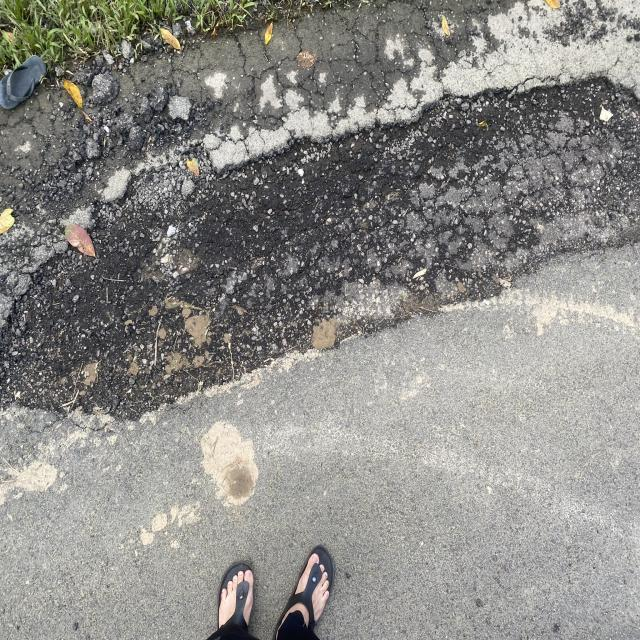Pothole: (0, 47, 640, 432)
